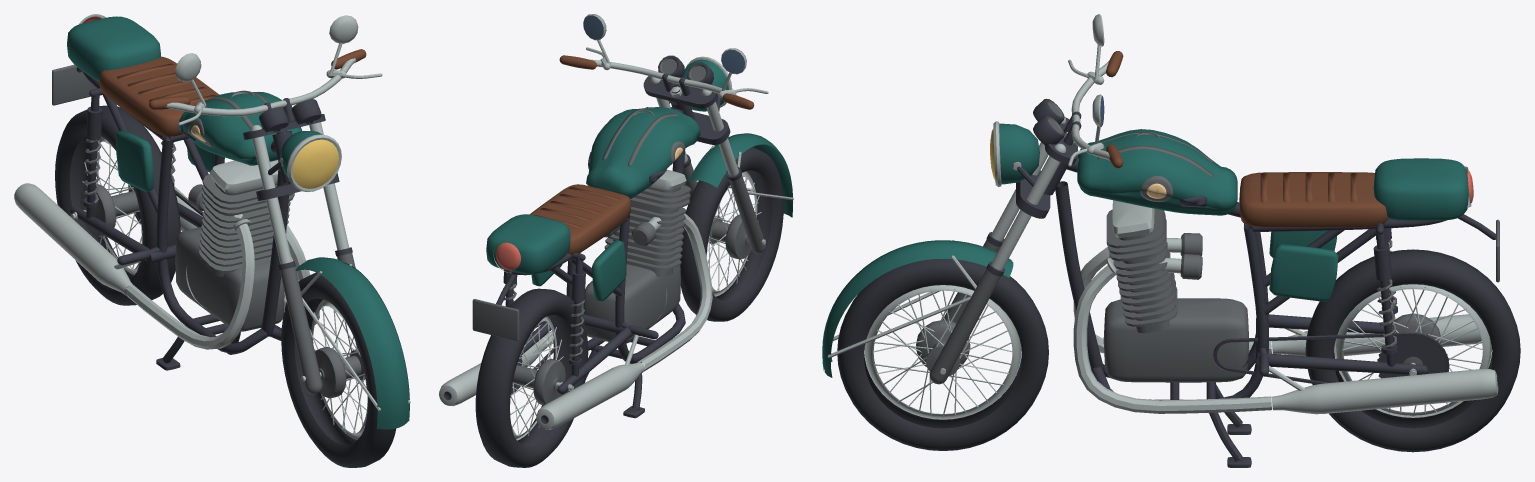
File: motorcycle-KGMJWDBL.glb
3 views of the same model, side by side, from view 1: azimuth 30°, elevation 25°; view 2: azimuth 150°, elevation 25°; view 3: azimuth 270°, elevation 25° (orthographic). The views are drawn at different scales.
Visible parts, largest first — view 1: motorcycle_body, motorcycle_steering, motorcycle_wheel_front, motorcycle_wheel_rear; view 2: motorcycle_body, motorcycle_steering, motorcycle_wheel_rear, motorcycle_wheel_front; view 3: motorcycle_body, motorcycle_wheel_front, motorcycle_wheel_rear, motorcycle_steering.
Part boxes in pixels (bbox=[...]): motorcycle_body: bbox=[14, 14, 319, 370]; motorcycle_steering: bbox=[149, 15, 410, 429]; motorcycle_wheel_front: bbox=[281, 272, 396, 467]; motorcycle_wheel_rear: bbox=[55, 105, 180, 305]; motorcycle_body: bbox=[439, 101, 712, 429]; motorcycle_steering: bbox=[559, 14, 793, 253]; motorcycle_wheel_rear: bbox=[475, 288, 588, 467]; motorcycle_wheel_front: bbox=[680, 147, 783, 321]; motorcycle_body: bbox=[1044, 129, 1499, 467]; motorcycle_wheel_front: bbox=[837, 258, 1048, 450]; motorcycle_wheel_rear: bbox=[1305, 249, 1520, 452]; motorcycle_steering: bbox=[822, 14, 1123, 384].
Bounding box in the file's own units: 0.7964 × 1.31 × 2.11.
Materials: 10 (1 with a texture image).
